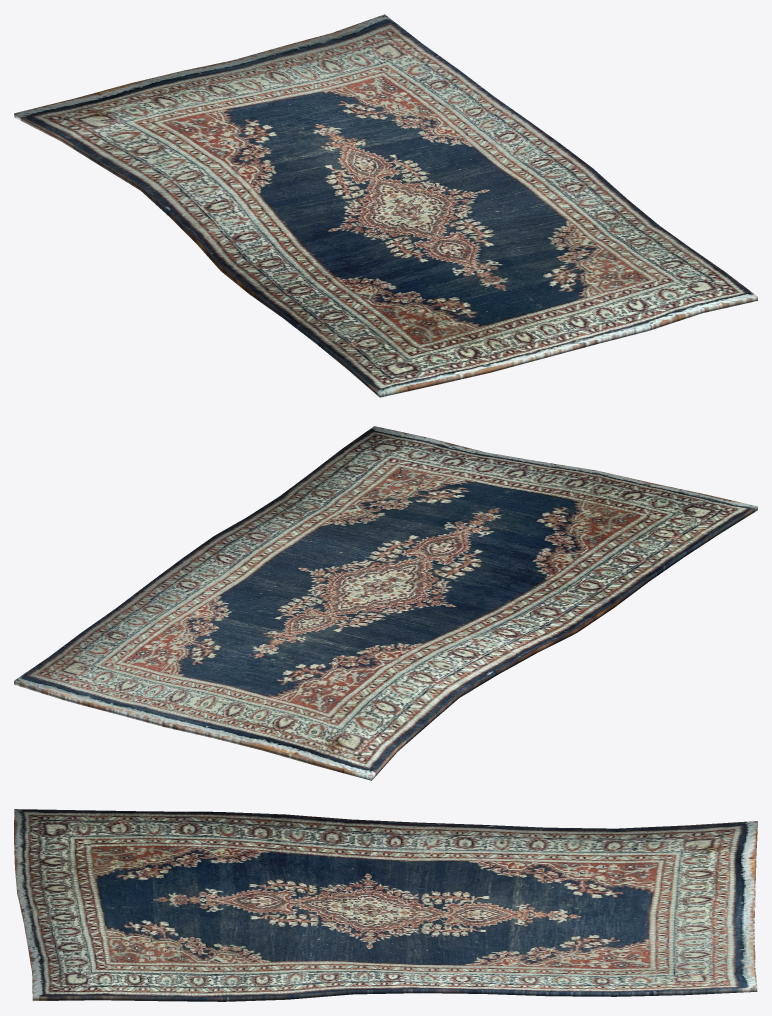
The model's file is Tapere.fbx.
3 views of the same model, one above another, from view 1: azimuth 30°, elevation 25°; view 2: azimuth 150°, elevation 25°; view 3: azimuth 270°, elevation 25° (orthographic). The views are drawn at different scales.
Visible parts, largest first — view 1: Plane; view 2: Plane; view 3: Plane.
Part boxes in pixels (x1,y1,x2,y2): Plane: (14,14,757,397); Plane: (14,426,757,780); Plane: (14,809,757,1001).
Bounding box in the file's own units: 1955 × 70.97 × 3323.
